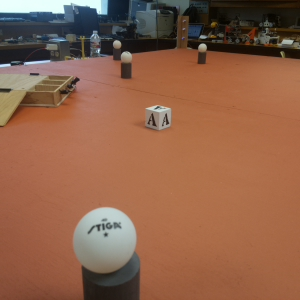obstacle: (74, 201, 152, 300), (120, 52, 136, 81), (198, 42, 208, 65), (112, 39, 121, 59)
side: (31, 75, 86, 103)
slope: (1, 82, 22, 122)
